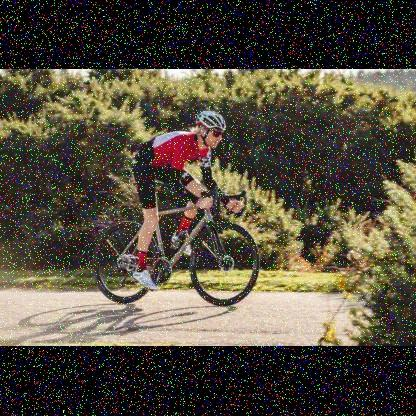Bicycle: (87, 184, 267, 320)
